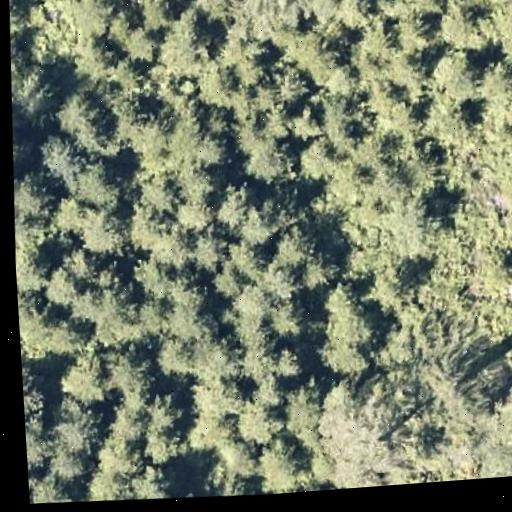tree-top: (219, 15, 312, 79), (310, 276, 387, 346), (212, 15, 275, 85), (132, 390, 190, 462), (152, 11, 216, 76), (46, 85, 111, 147), (223, 247, 279, 317), (44, 402, 106, 465), (54, 344, 115, 407), (92, 421, 153, 482), (43, 0, 121, 47), (71, 200, 131, 260), (99, 342, 156, 405), (419, 90, 479, 147), (191, 365, 251, 422), (236, 129, 297, 184), (230, 389, 285, 450), (257, 432, 311, 494), (431, 42, 486, 102), (10, 56, 59, 122), (118, 105, 174, 162), (69, 152, 127, 207), (149, 329, 205, 385), (277, 21, 335, 75), (68, 25, 125, 79), (276, 380, 327, 440), (260, 248, 319, 297), (146, 219, 200, 272), (33, 124, 85, 179), (316, 156, 368, 209), (185, 332, 238, 384), (132, 164, 183, 217), (162, 286, 212, 340), (311, 91, 361, 145), (431, 0, 487, 48), (14, 225, 56, 287), (12, 166, 59, 221), (235, 197, 284, 249), (212, 178, 259, 231), (295, 133, 344, 183), (191, 130, 244, 176), (124, 459, 181, 501), (46, 440, 95, 488), (259, 255, 303, 308), (115, 20, 165, 66), (37, 263, 84, 311), (353, 14, 398, 64), (128, 0, 181, 40), (225, 232, 269, 279), (269, 222, 313, 268), (393, 9, 436, 56), (187, 226, 229, 272), (476, 56, 512, 109), (231, 282, 274, 325), (296, 246, 337, 290), (21, 360, 48, 419), (28, 467, 71, 504), (484, 1, 512, 47), (25, 415, 48, 466), (7, 0, 26, 41)
